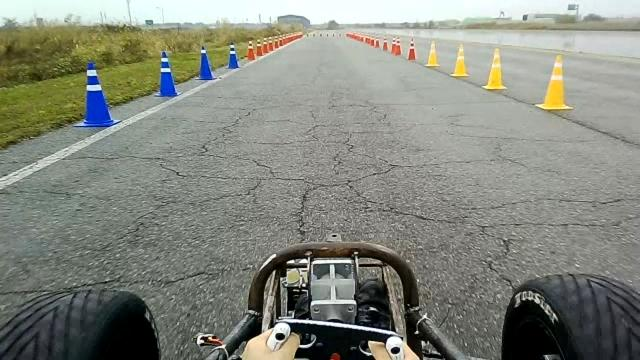blue cone: (73, 61, 121, 127), (153, 50, 180, 97), (195, 45, 215, 80), (226, 41, 240, 69)
red cone: (244, 34, 259, 66), (408, 33, 418, 65)
yellow cone: (534, 53, 574, 111), (481, 47, 507, 90), (450, 42, 470, 78), (424, 40, 440, 67)
